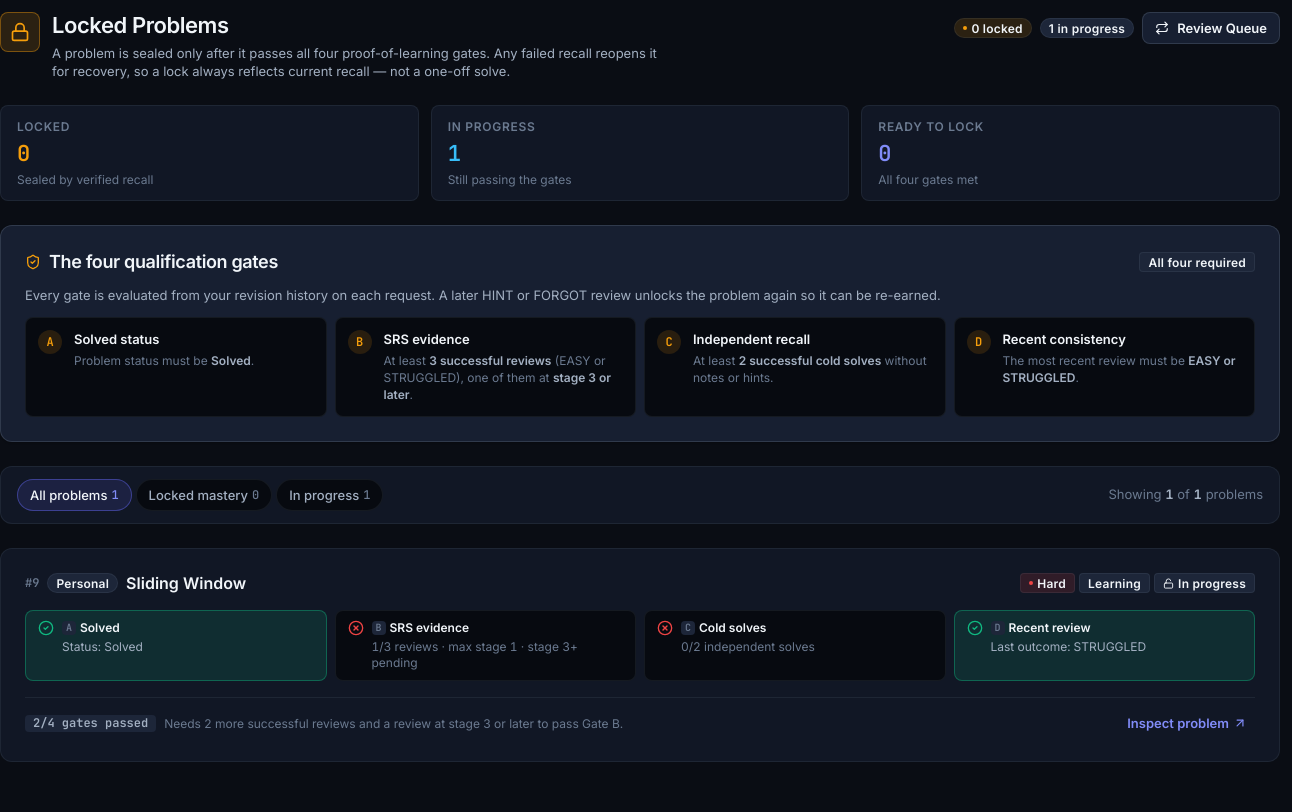
LockedProblemsPage (Locked Mastery redesign) › explains the empty locked view and clears the filter in one action
Expected: the link "Sliding Window" is shown, x1=126 y1=573 x2=246 y2=594
Click the button "Locked mastery 0": (204, 495) x1=136 y1=479 x2=272 y2=511
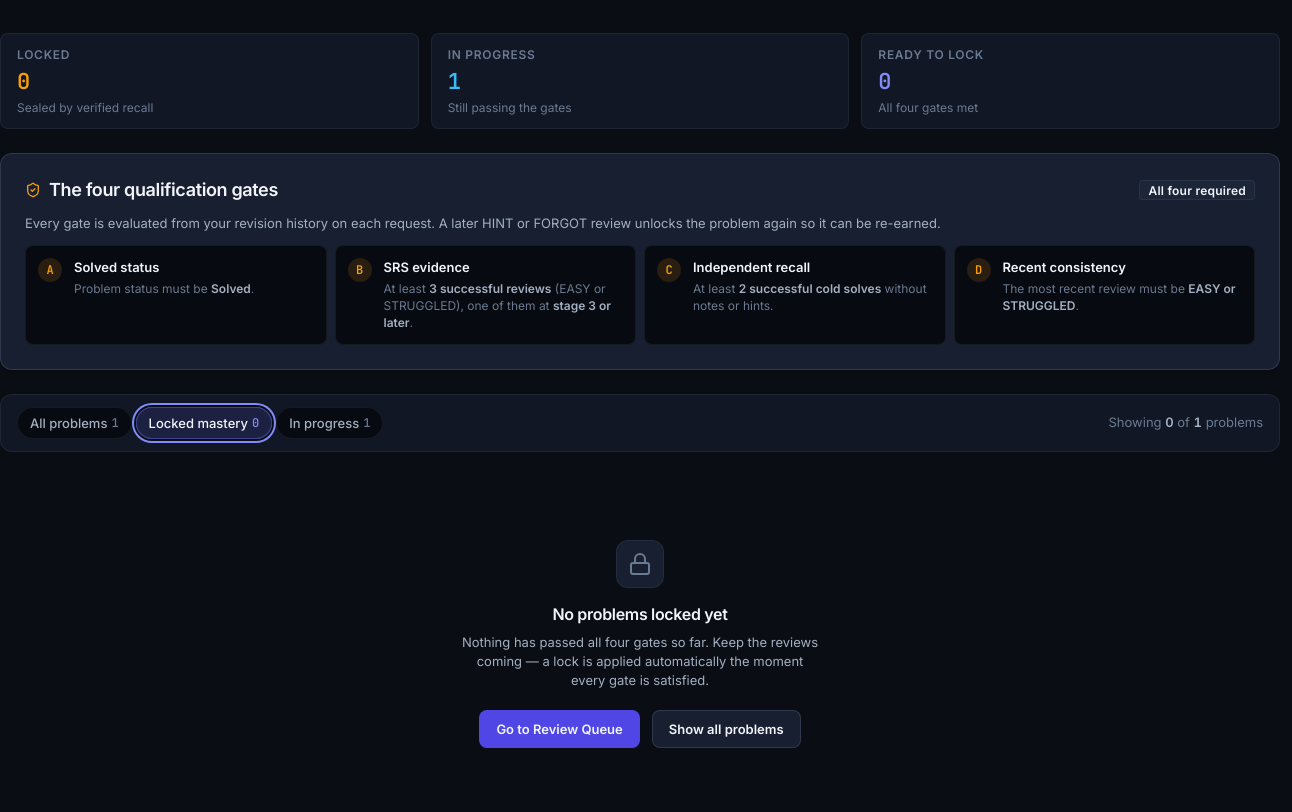
Expected: the heading "No problems locked yet" is shown, x1=552 y1=604 x2=728 y2=625
Click the button "Show all problems": (726, 729) x1=652 y1=710 x2=801 y2=748
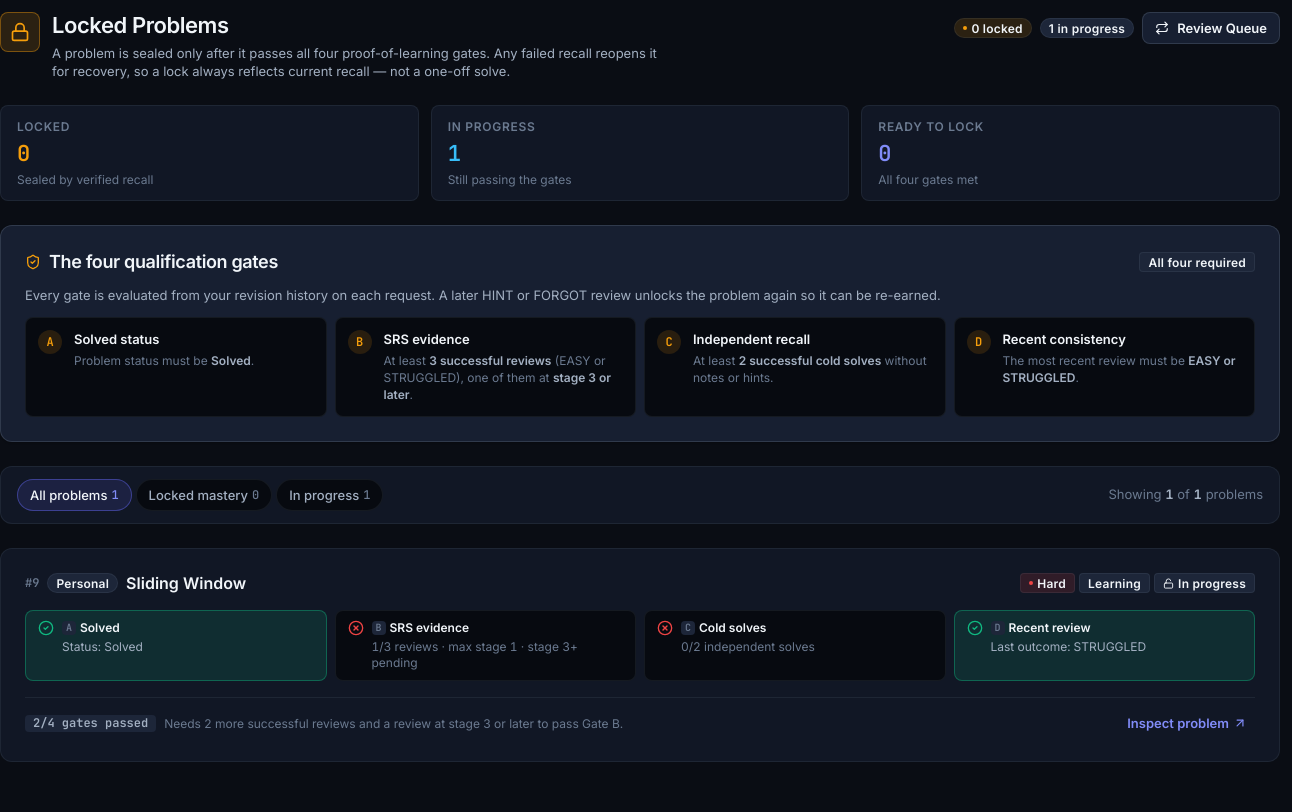
Expected: the link "Sliding Window" is shown, x1=126 y1=573 x2=246 y2=594
